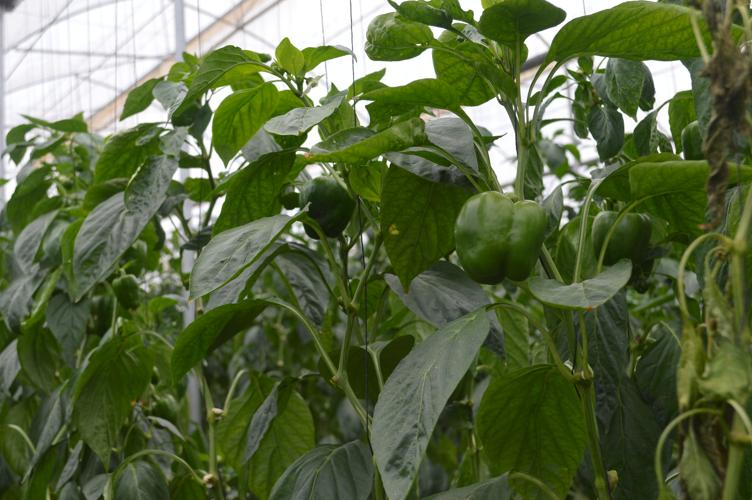BellPepper: (441, 182, 545, 290), (292, 168, 365, 249), (583, 194, 655, 271)
